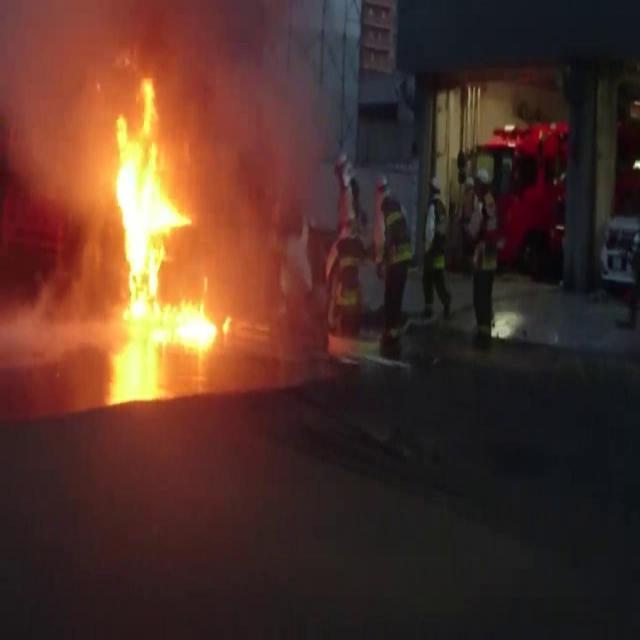fire: (91, 45, 233, 412)
